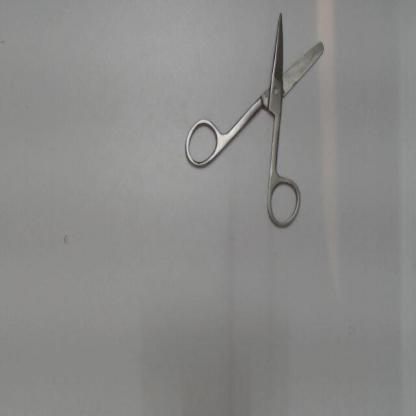Dressing Scissors: (180, 2, 334, 236)
